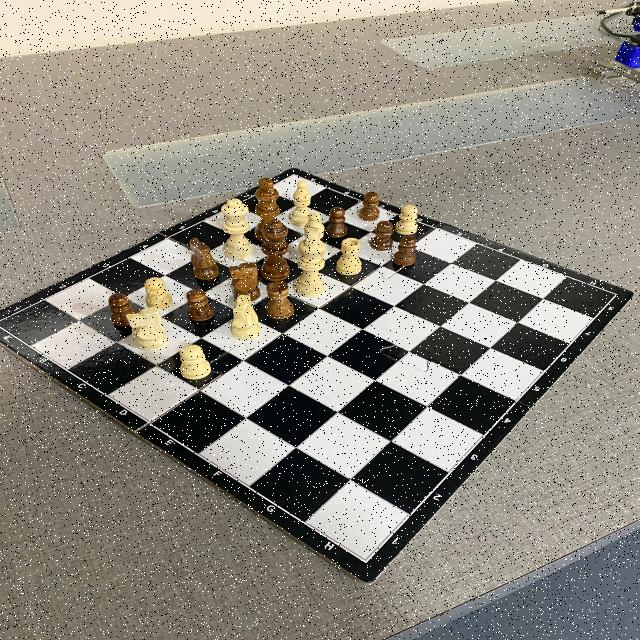Black-King: (255, 178, 281, 240)
Black-Knight: (190, 237, 218, 281), (230, 262, 258, 300)
Black-Pawn: (109, 293, 137, 326), (187, 289, 213, 321), (394, 236, 416, 266), (371, 221, 393, 251), (326, 206, 346, 238), (358, 192, 379, 220)
Black-Queen: (260, 220, 288, 282)
Black-Rook: (266, 281, 294, 319)
White-Bishop: (292, 180, 312, 227), (304, 213, 324, 237)
White-King: (296, 230, 326, 296)
White-Knight: (128, 306, 168, 352), (230, 295, 261, 340)
White-Pawn: (179, 344, 211, 380), (145, 277, 172, 309), (396, 204, 418, 236)
White-Queen: (222, 198, 250, 260)
White-Rook: (336, 238, 362, 274)
